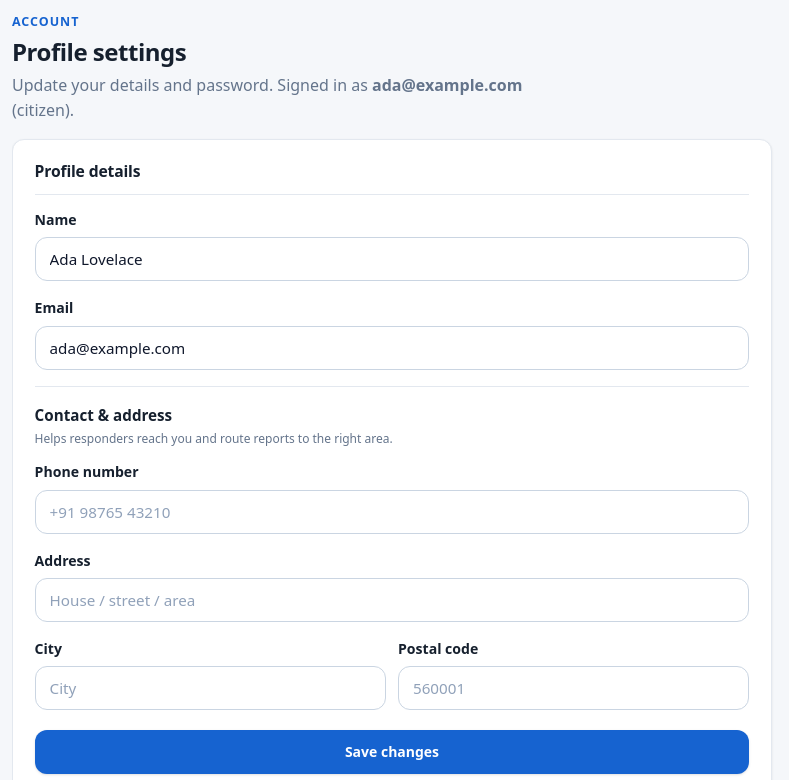
profile page › does not ask for a password when only the name changes
Replace the text in the field labelled "Name" with "Ada L." at (392, 259), box [35,237,749,281]
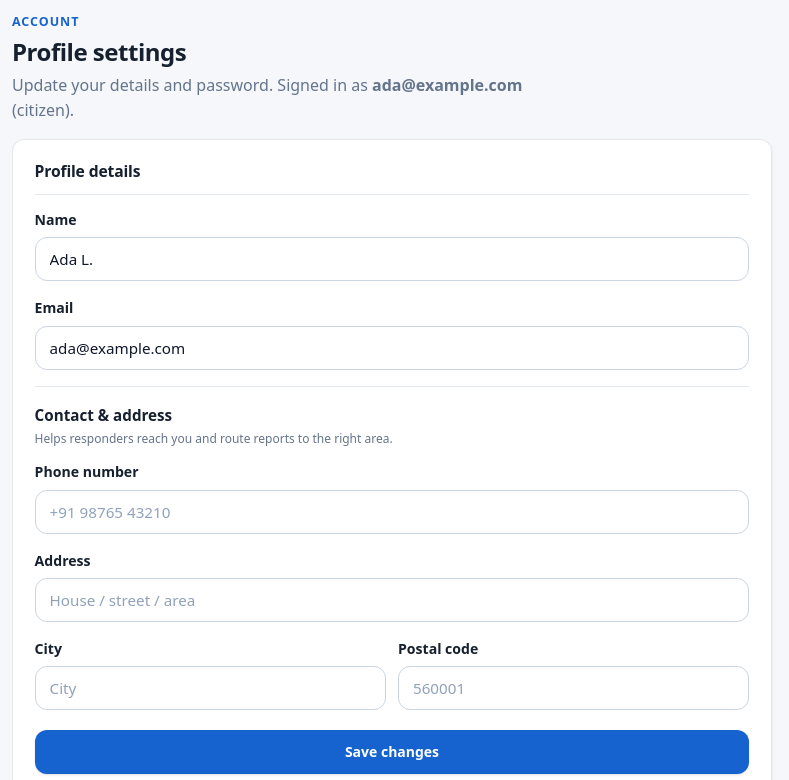
Click the button "Save changes" at (392, 752), box [35,730,749,774]
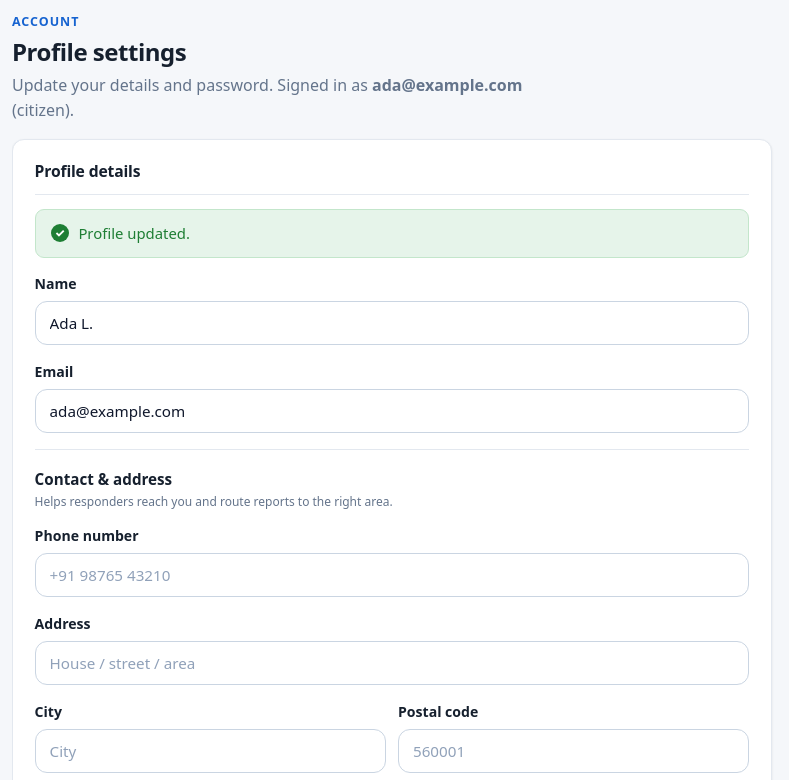
Check: the text "Profile updated." is shown, box [35,209,749,258]
